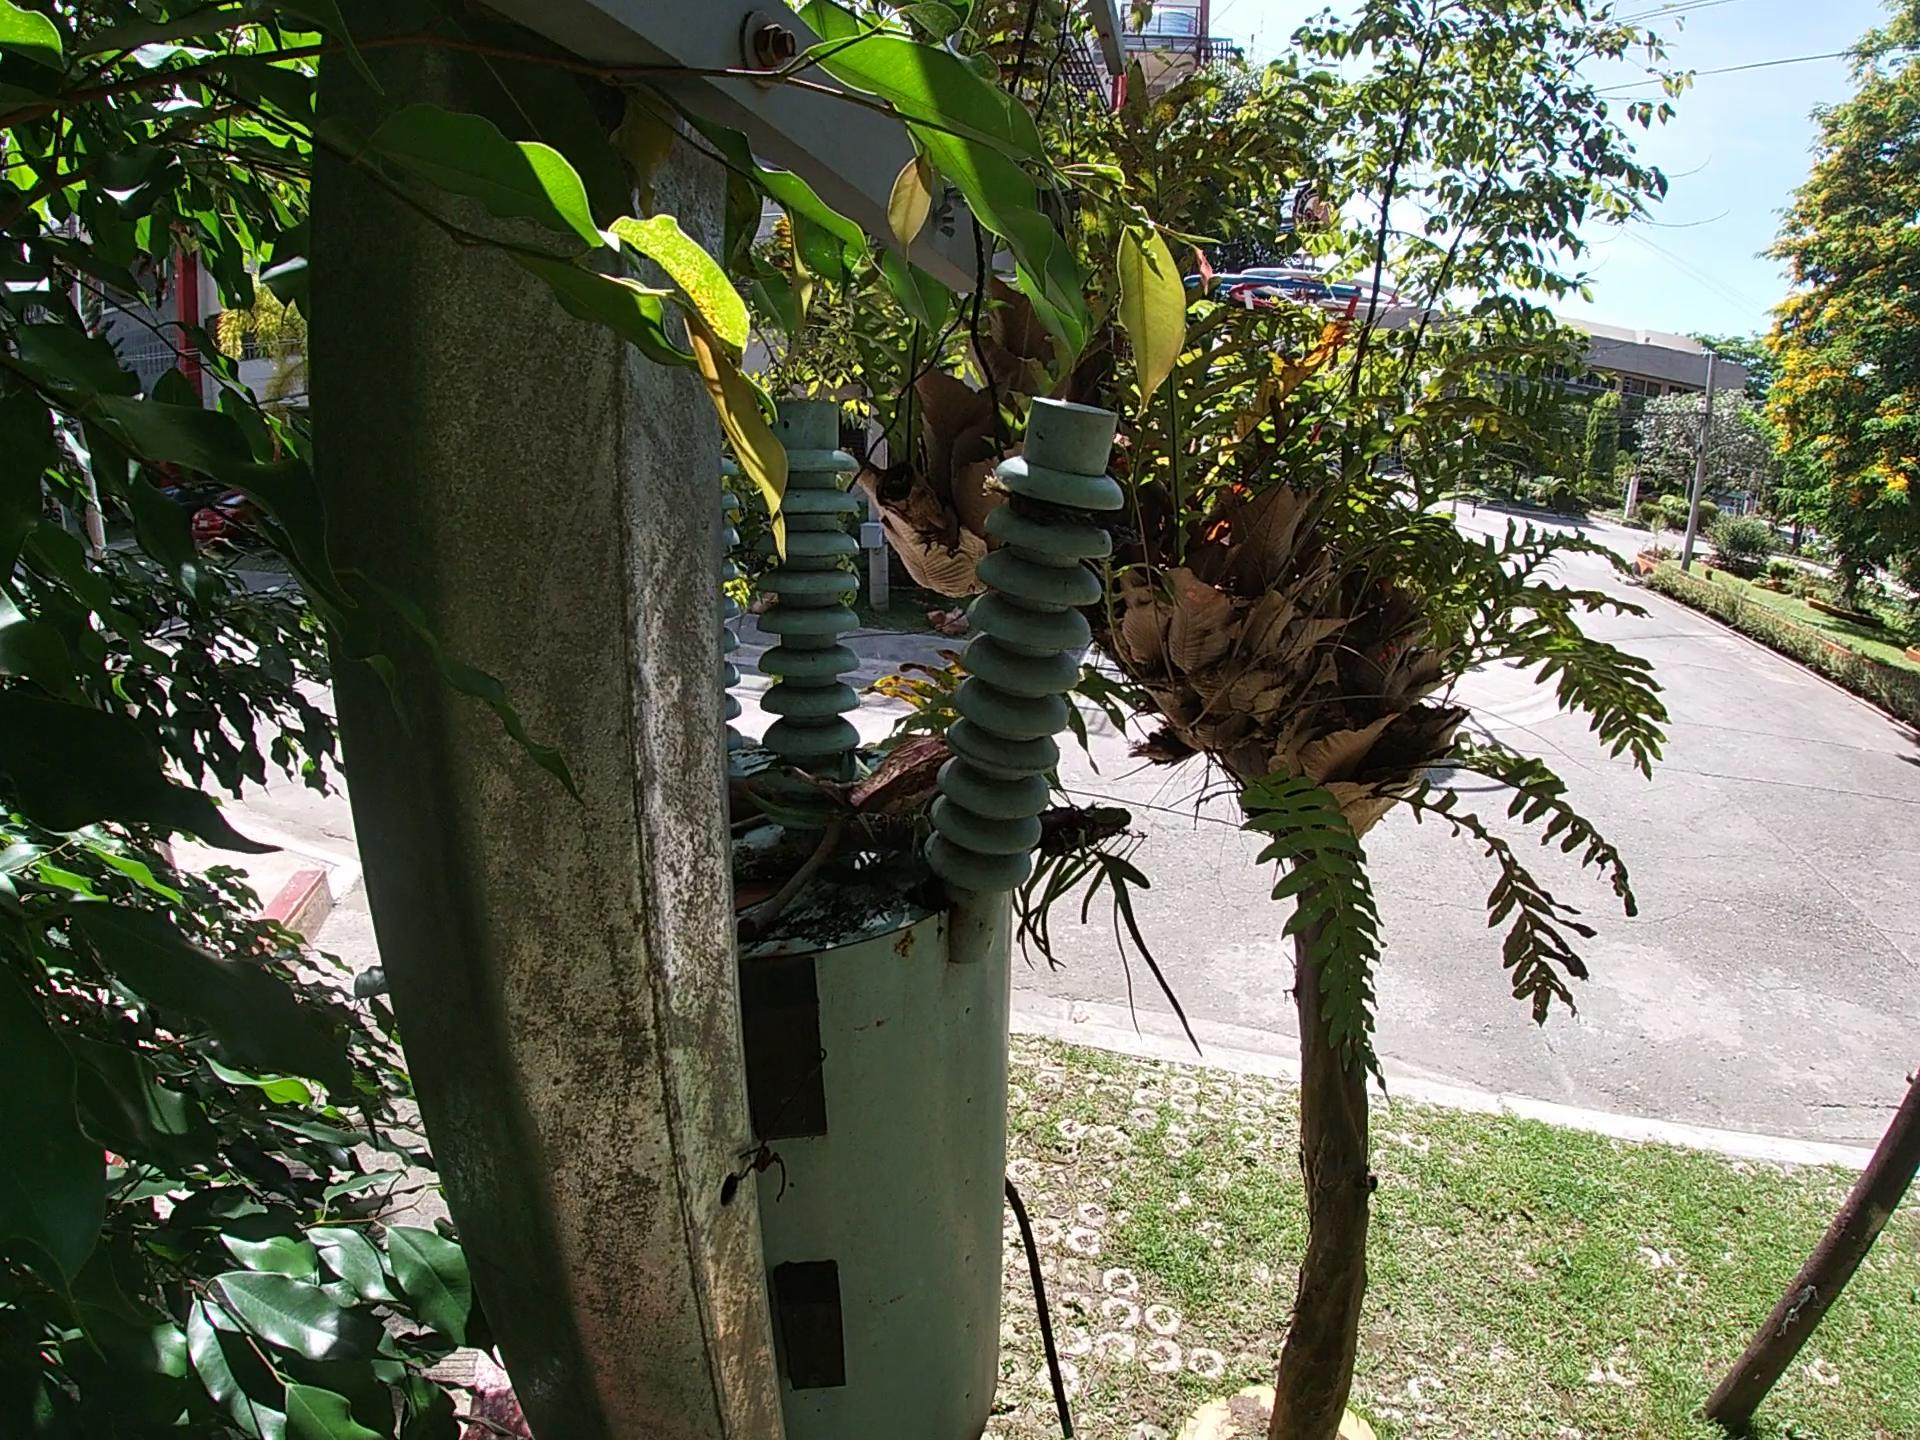branch with leaves: (958, 768, 1160, 897)
mahogany fruit: (720, 800, 903, 874)
tree branch: (723, 805, 845, 1015)
